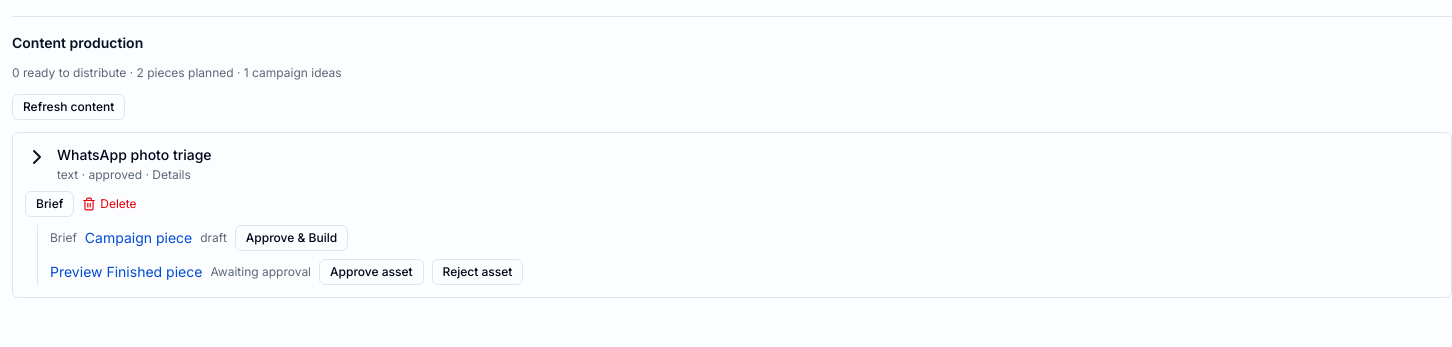
Test: uses the existing combined RPC for campaign briefing
Click the button "Brief" at [50, 204], box x1=25 y1=191 x2=74 y2=217
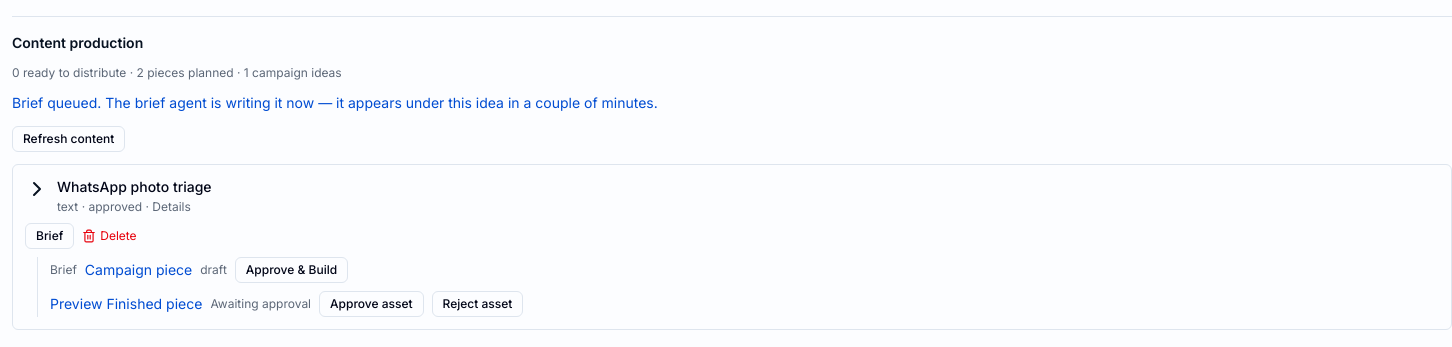
Result: the message shows "Brief queued" at x1=12 y1=94 x2=658 y2=111
